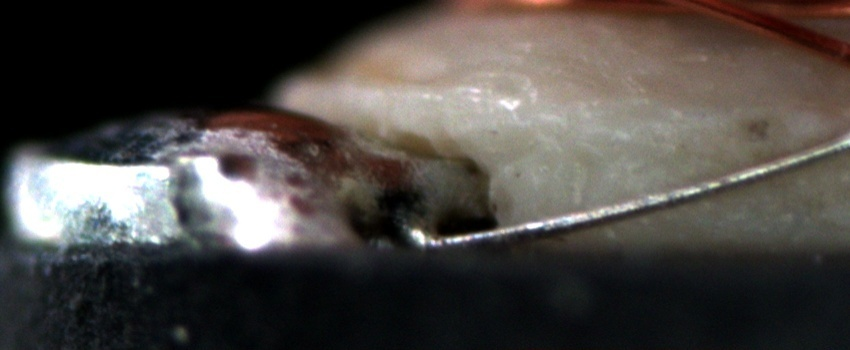DL: (526, 80, 850, 144)
TS: (422, 133, 849, 250)
